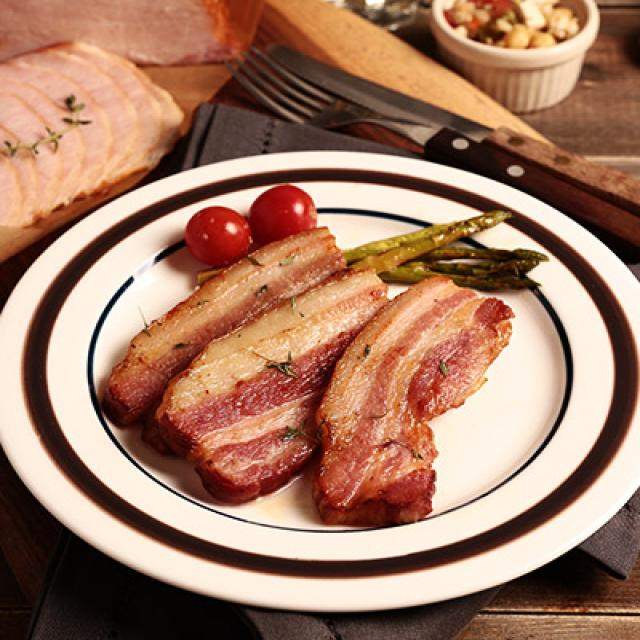bacon: (109, 260, 529, 516)
